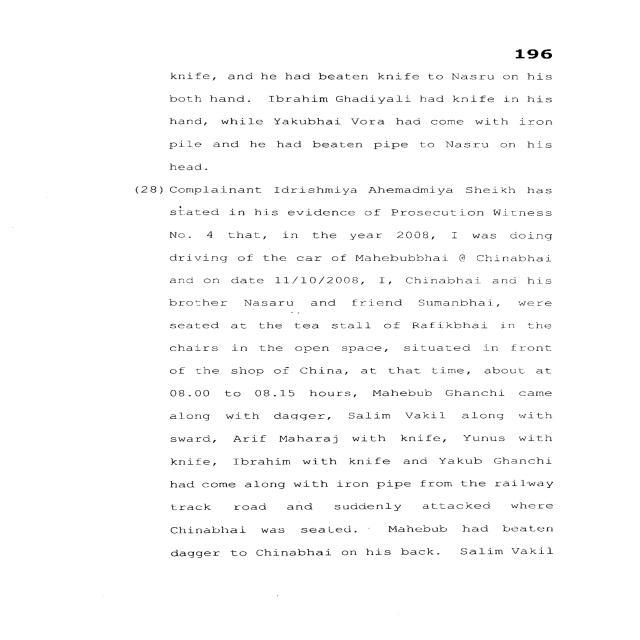page-number: (432, 2, 637, 68)
